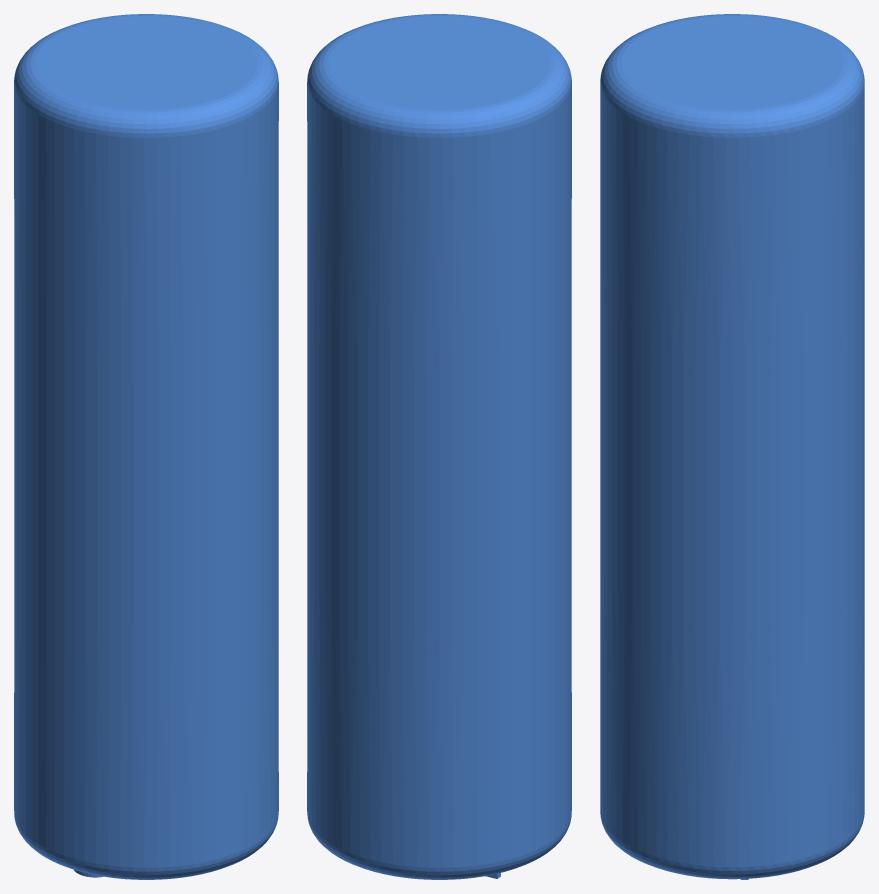
File: 3DPX-023527.glb
3 views of the same model, side by side, from view 1: azimuth 30°, elevation 25°; view 2: azimuth 150°, elevation 25°; view 3: azimuth 270°, elevation 25° (orthographic).
Visible parts, largest first — view 1: 12.5diam40mmlongpeg-repaired-nih3d; view 2: 12.5diam40mmlongpeg-repaired-nih3d; view 3: 12.5diam40mmlongpeg-repaired-nih3d.
Boxes of the visible parts, x1,y1,x2,y2 form: 12.5diam40mmlongpeg-repaired-nih3d: [14, 14, 278, 879]; 12.5diam40mmlongpeg-repaired-nih3d: [307, 14, 571, 879]; 12.5diam40mmlongpeg-repaired-nih3d: [600, 14, 864, 879].
Size of the model in its own units: 12.5 by 41 by 12.5.
